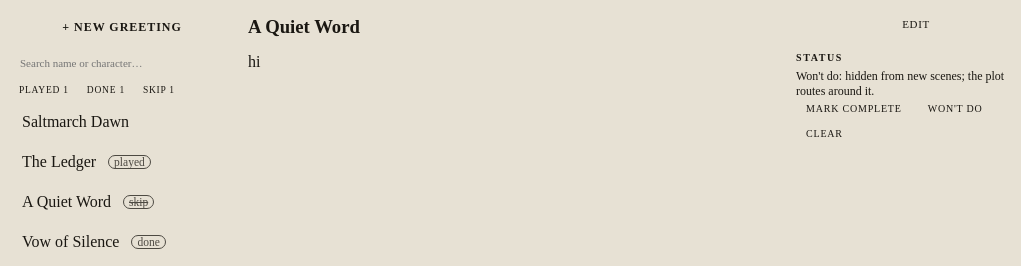
Test: the open greeting stays listed even when the filters would hide it
Click the button "skip 1". click: click(159, 90)
box: 136,83 -> 182,97
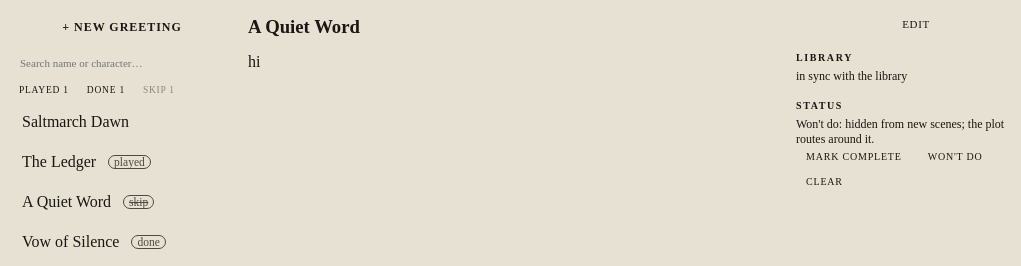
Expected: the link "A Quiet Word skip" is shown, 22,193 -> 154,210
Note: and a search it cannot match still leaves it there
Type "zzz" into the search field named "Search greetings". click: (122, 63)
box: 12,51 -> 232,75
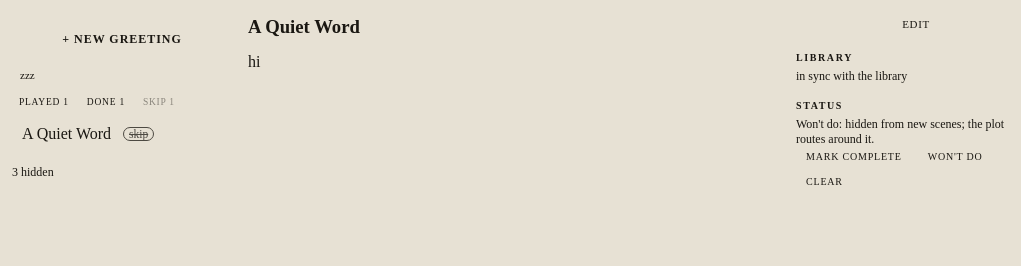
Expected: the link "A Quiet Word skip" is shown, 22,125 -> 154,142
Now the link "Saltmarch Dawn" is gone
